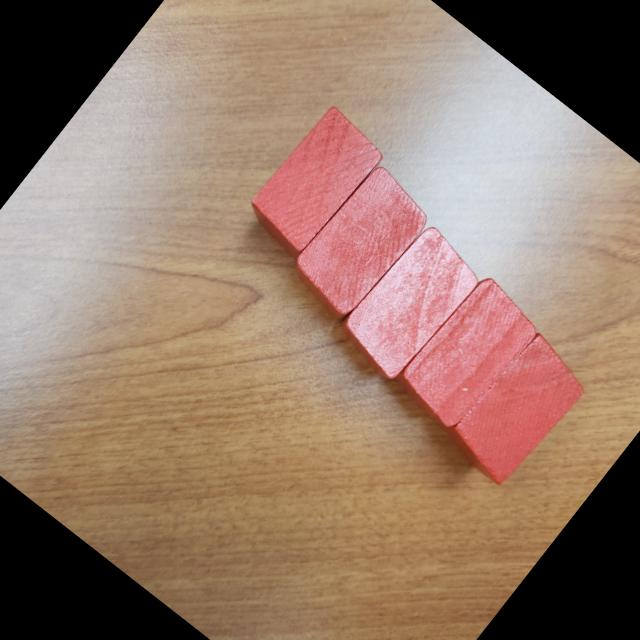red: (436, 323, 596, 493), (388, 270, 546, 440), (332, 218, 489, 388), (284, 160, 438, 327), (239, 101, 389, 262)
